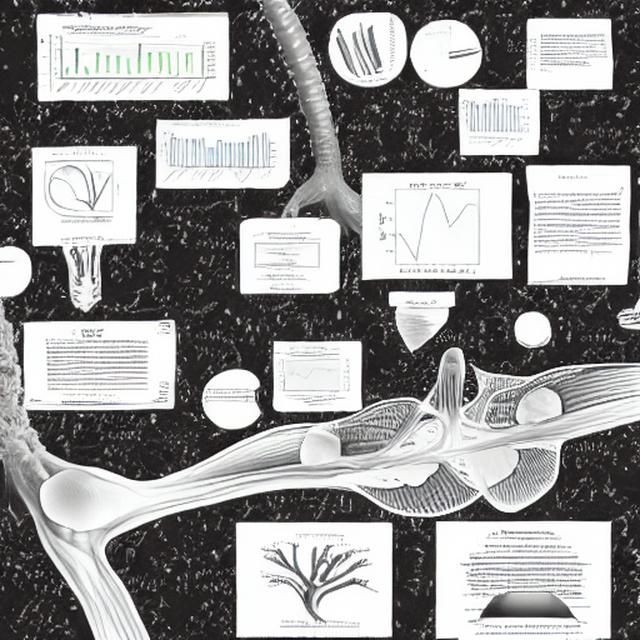Graph: (370, 177, 501, 275), (47, 24, 168, 98), (157, 122, 260, 184), (275, 360, 339, 397)
